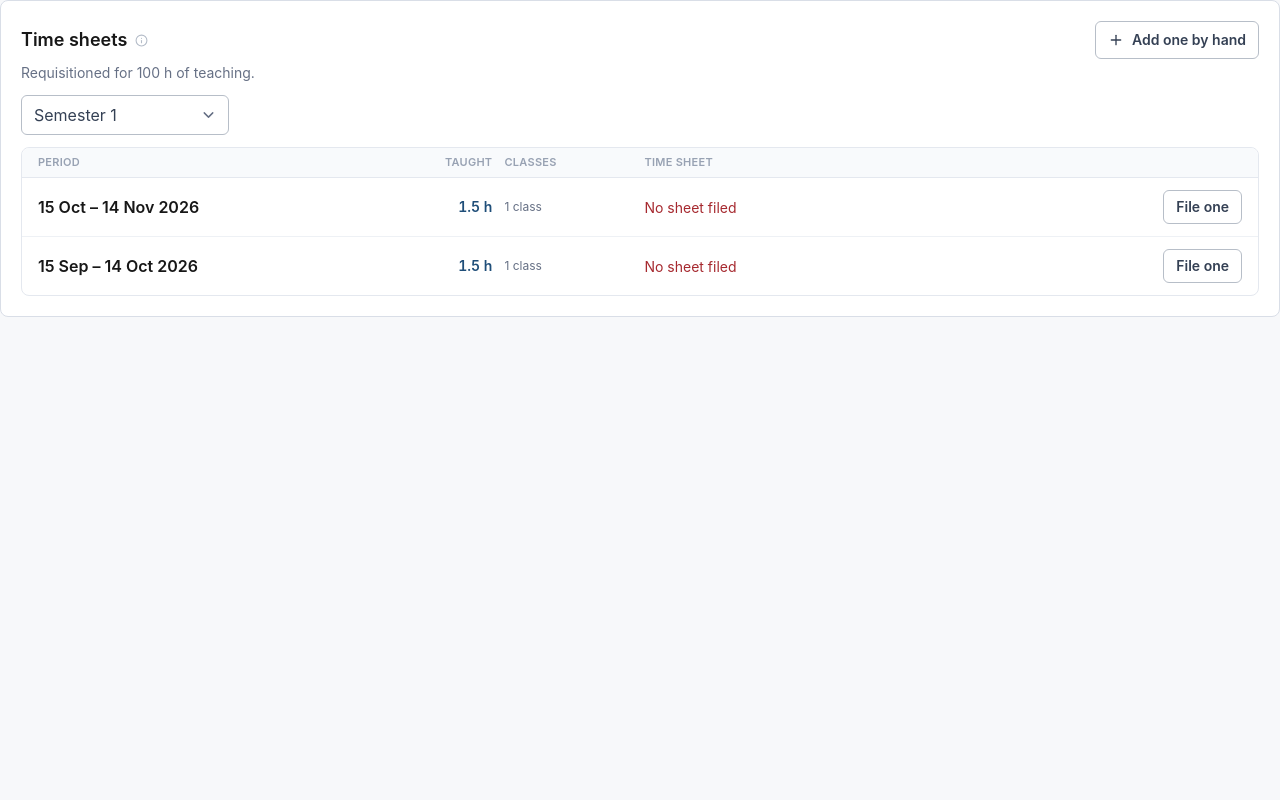
Test: time sheets, read by pay period › opens the form against that period, with the period already named
What coordinates should you click on to do the following:
click the button with aria-label "File a sheet for 15 Sep – 14 Oct 2026"
I would click on:
 (1203, 266)
Its box is [1163,248,1242,282].
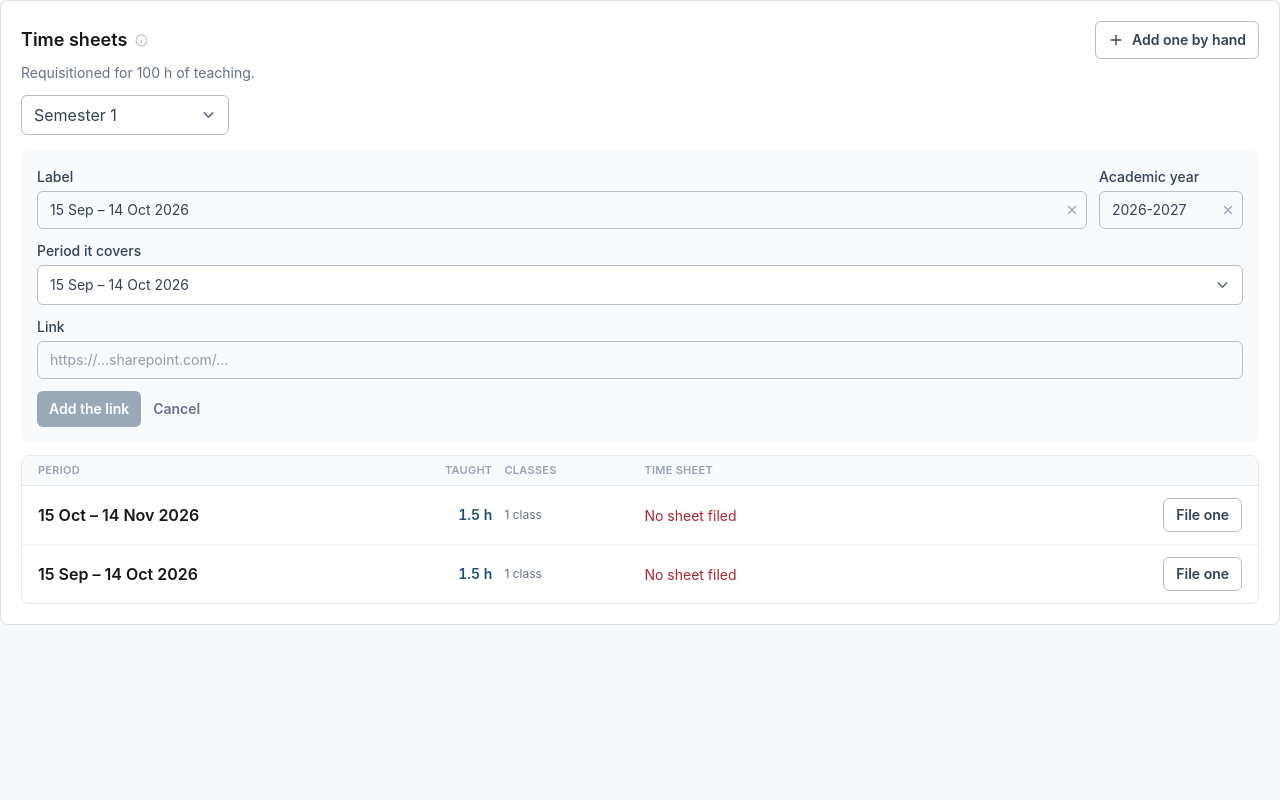
Check: the field labelled "Label" holds "15 Sep – 14 Oct 2026", box [37,191,1087,229]
